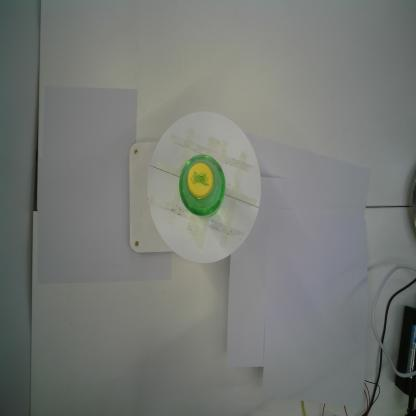Drink: (179, 152, 227, 222)
